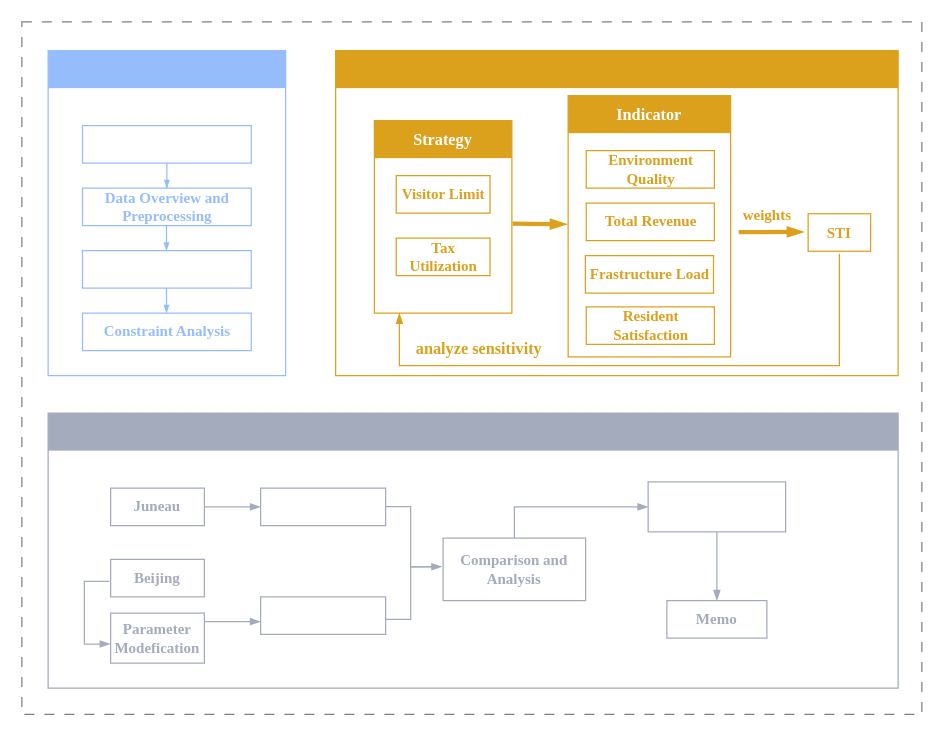
The diagram is 944 pixels wide and 736 high, and some of its shapes have lost their labels. The shapes that lost their labels are listed below. From the top down, each one's box as (x1, y1, x2, y2) in pixels, then its label:
(48, 50, 285, 88): Part 1:Model Preparation
(335, 50, 898, 88): Part 2:Model Construction and Sensitivity Analysis
(81, 124, 251, 163): Material and Data Collection
(81, 249, 251, 288): Evaluation Factor Selection
(48, 412, 898, 450): Part 3:Model Application and Evaluation
(259, 487, 386, 526): Model Result 1
(647, 481, 786, 532): Strengths and Weakness Analysis
(259, 596, 386, 634): Model Result 2
